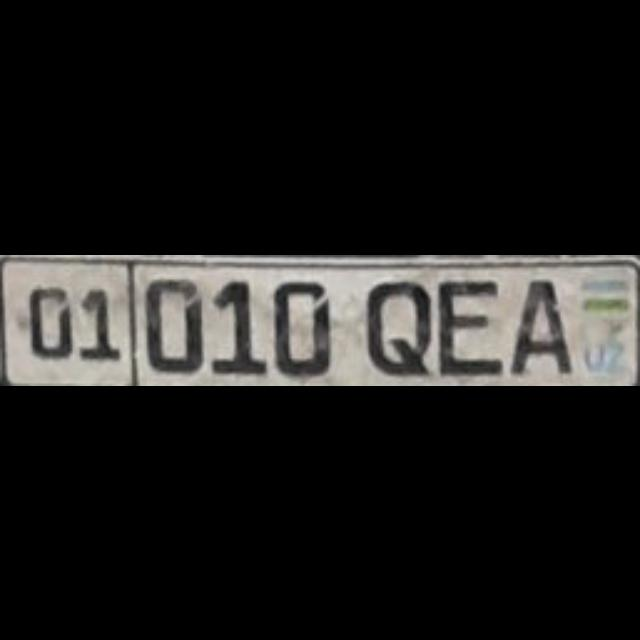0: (272, 278, 328, 374), (143, 276, 200, 368), (28, 284, 70, 358)
1: (206, 278, 264, 374), (74, 286, 120, 358)
A: (506, 276, 570, 374)
E: (436, 276, 500, 376)
Q: (364, 278, 428, 376)
